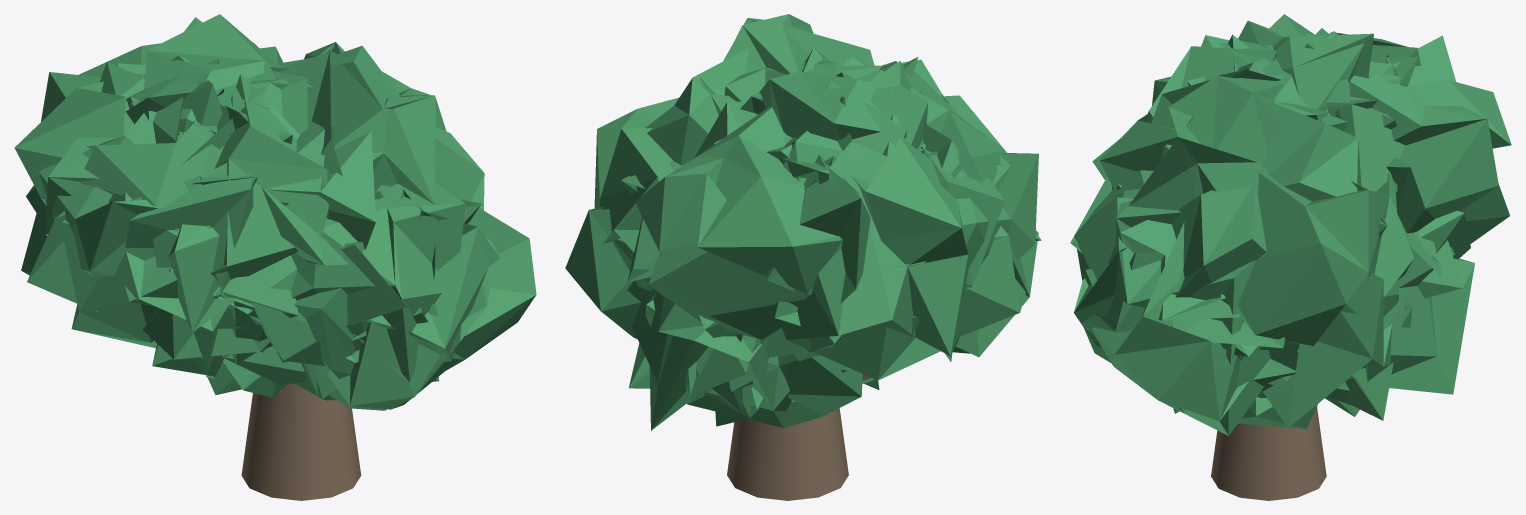
File: tree_pine_hf.glb
The picture shows the model from 3 angles, left to right: view 1: azimuth 30°, elevation 25°; view 2: azimuth 150°, elevation 25°; view 3: azimuth 270°, elevation 25°; orthographic projection. The views are drawn at different scales.
Parts seen in each view (by area): view 1: tree_pine_v1; view 2: tree_pine_v1; view 3: tree_pine_v1.
Part boxes in pixels (x1,y1,x2,y2): tree_pine_v1: [14, 14, 536, 500]; tree_pine_v1: [565, 14, 1041, 500]; tree_pine_v1: [1070, 14, 1511, 500].
Size of the model in its own units: 2.41 by 2.39 by 2.29.
